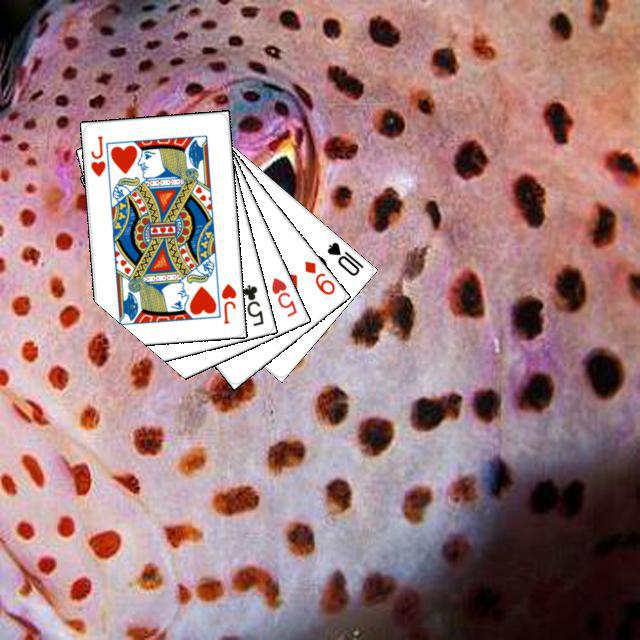10s: (322, 237, 365, 278)
5c: (237, 279, 265, 328)
5h: (266, 272, 299, 319)
9d: (299, 256, 337, 297)
Jh: (217, 278, 238, 326), (86, 131, 107, 178)
